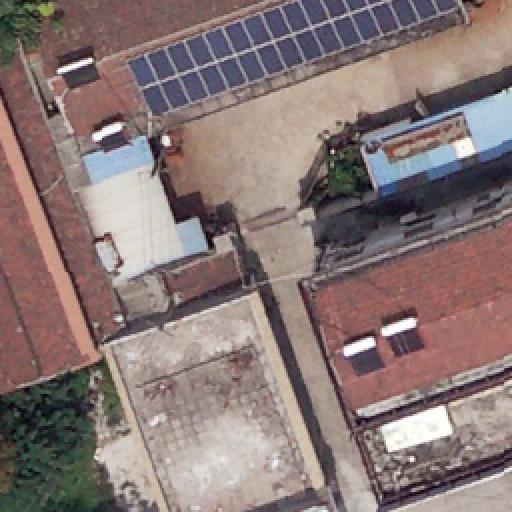solar-panel: (127, 0, 463, 121)
